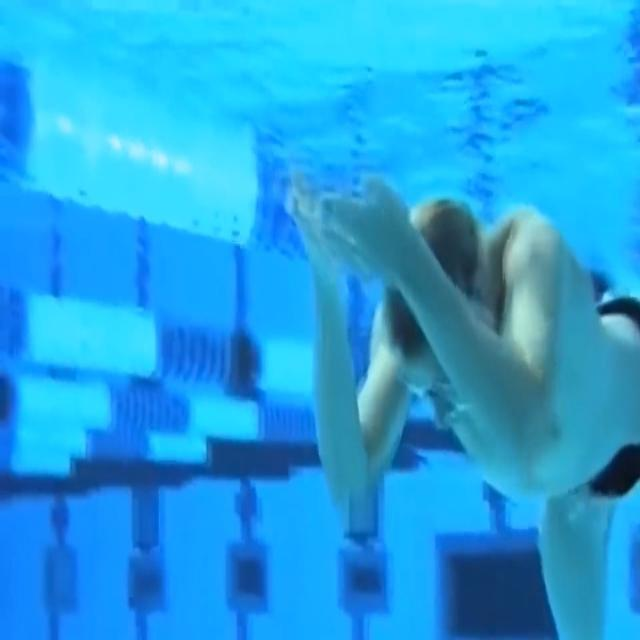Swimming: (281, 185, 640, 639)
